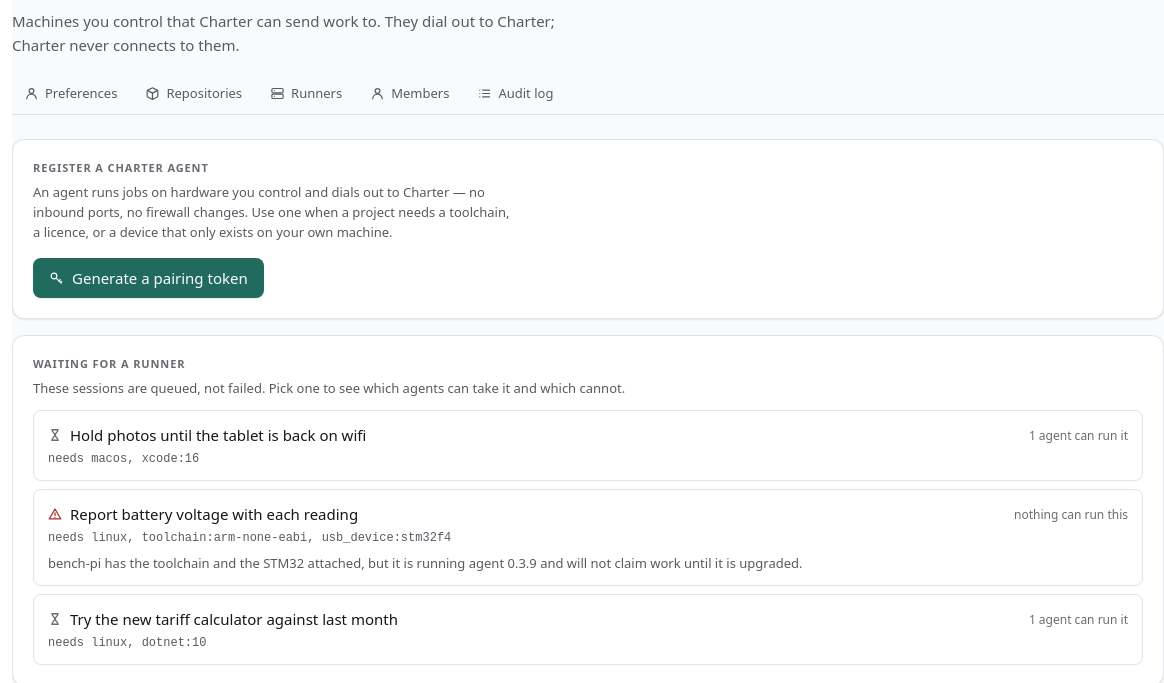
Test: Settings → Runners (§33.3) › explains a routing decision per requirement when a waiting session is picked
Click the button "Hold photos until the tablet is back on wifi" at (218, 435), box [33,410,1143,481]
(page scrolled)
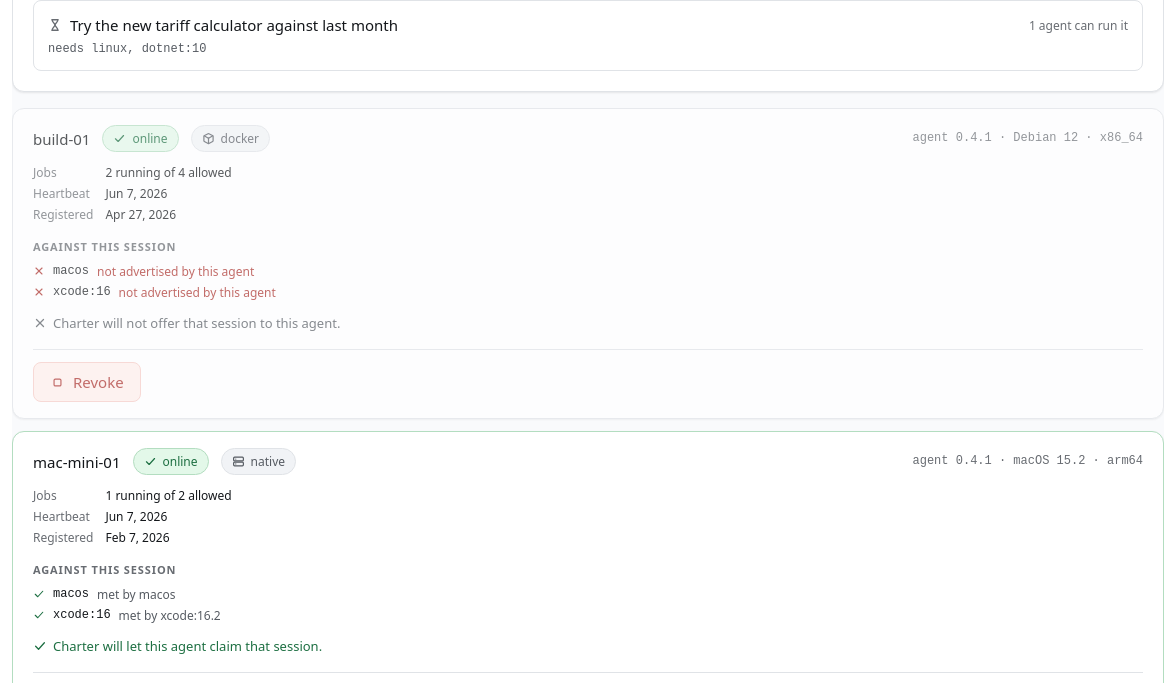
Check: the text "met by xcode:16.2" is shown, box [119,607,221,624]
Check: the text "Charter will let this agent claim that session." is shown, box [33,637,322,655]
Check: the 1st text "not advertised by this agent" is shown, box [97,263,254,280]
